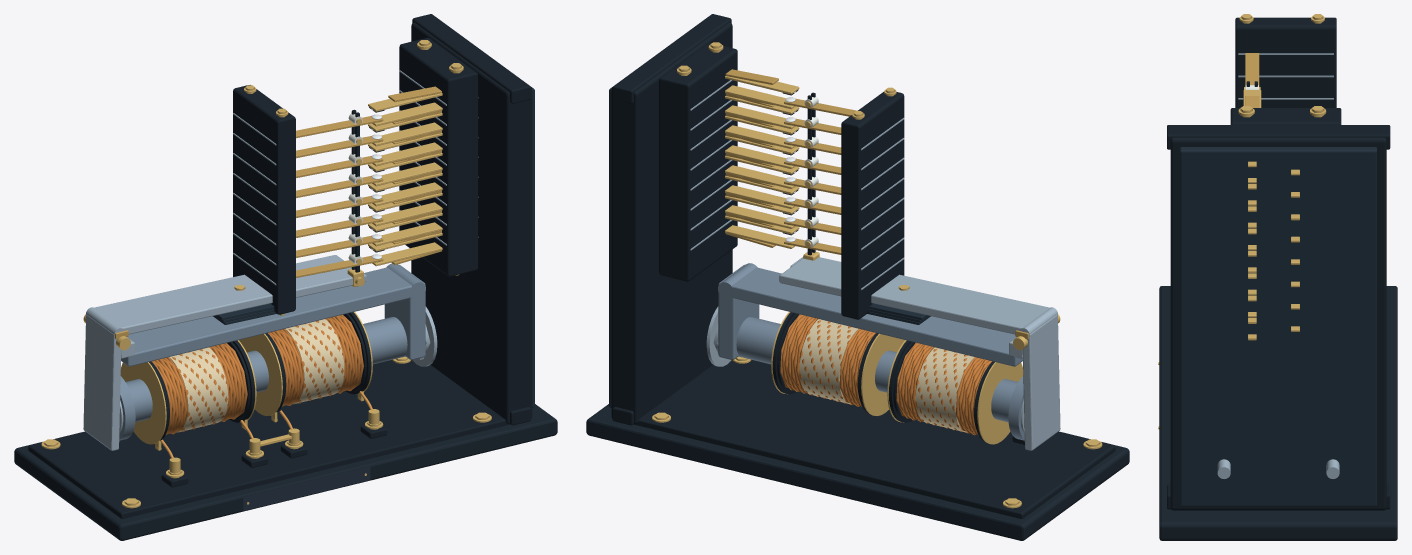
Rendered from JWXC-1700-dropped.glb.
3 renders of one model, left to right at view 1: azimuth 30°, elevation 25°; view 2: azimuth 150°, elevation 25°; view 3: azimuth 270°, elevation 25°, orthographic. The views are drawn at different scales.
Visible parts, largest first — view 1: base (×6), contactBlock (×2), coil (×6), armature (×2), yoke (×2), back (×8), core, pole; view 2: base (×5), contactBlock (×2), coil (×6), armature (×2), yoke (×2), core, pole, back; view 3: base (×4), contactBlock (×2), common.
Part boxes in pixels (x1=…): base (×6): x1=14, y1=14, x2=557, y2=540; contactBlock (×2): x1=233, y1=38, x2=477, y2=314; coil (×6): x1=120, y1=314, x2=363, y2=444; armature (×2): x1=83, y1=255, x2=364, y2=450; yoke (×2): x1=121, y1=264, x2=425, y2=366; back (×8): x1=372, y1=102, x2=442, y2=266; core: x1=125, y1=317, x2=407, y2=422; pole: x1=119, y1=376, x2=135, y2=440; base (×5): x1=586, y1=14, x2=1129, y2=540; contactBlock (×2): x1=659, y1=42, x2=904, y2=319; coil (×6): x1=780, y1=314, x2=1023, y2=444; armature (×2): x1=779, y1=257, x2=1060, y2=450; yoke (×2): x1=718, y1=264, x2=1022, y2=366; core: x1=736, y1=317, x2=1018, y2=422; pole: x1=1008, y1=376, x2=1024, y2=440; back: x1=725, y1=225, x2=795, y2=248; base (×4): x1=1159, y1=125, x2=1397, y2=540; contactBlock (×2): x1=1230, y1=17, x2=1341, y2=124; common: x1=1245, y1=53, x2=1259, y2=86.
Size of the model in its own units: 6.05 by 4.73 by 2.55.
